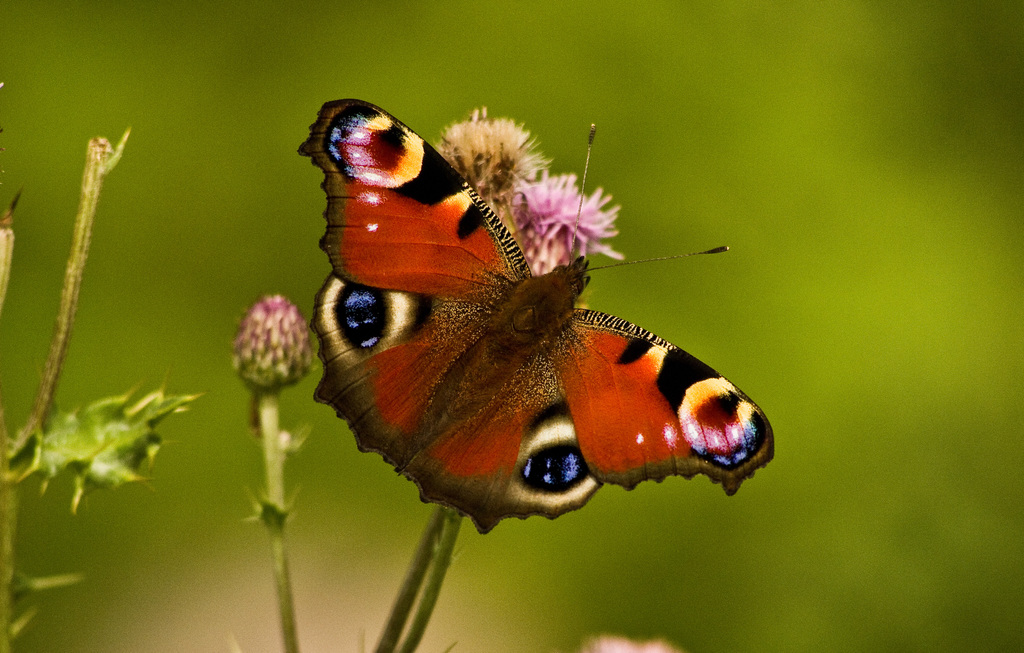Butterfly: (286, 104, 777, 523)
